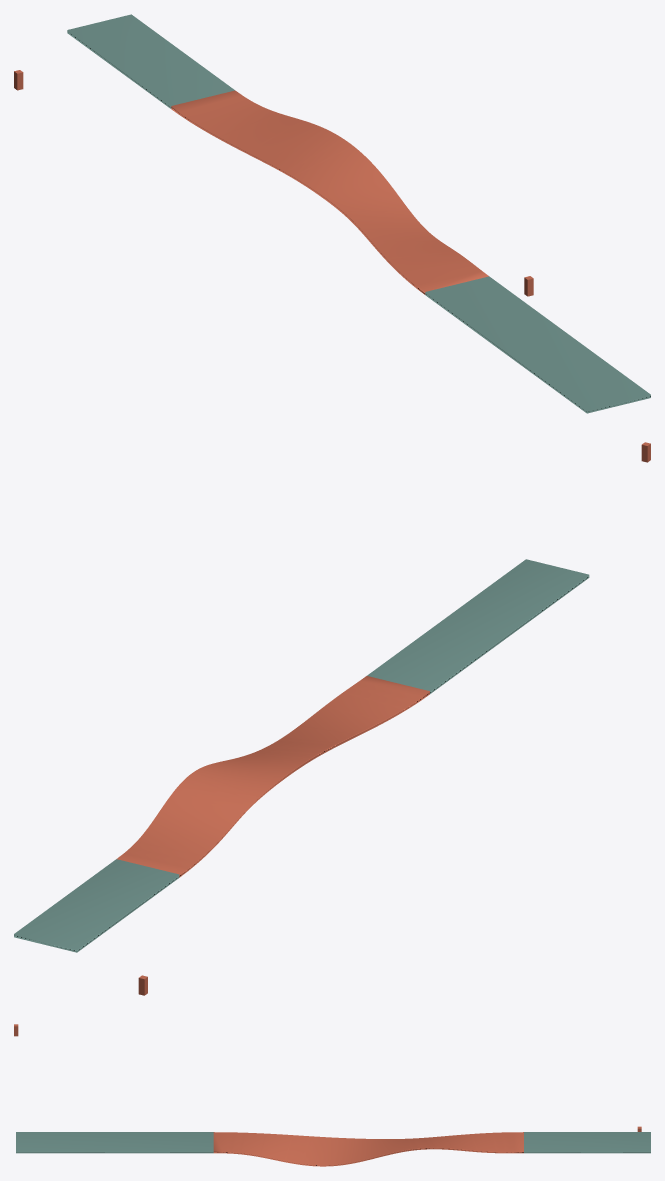
Rendered from ribbon-bridge-95603-cruise.glb.
3 renders of one model, top to bottom at view 1: azimuth 30°, elevation 25°; view 2: azimuth 150°, elevation 25°; view 3: azimuth 270°, elevation 25°, orthographic. The views are drawn at different scales.
Parts seen in each view (by area): view 1: study-deck-render, runout-deck-render, approach-deck-render; view 2: study-deck-render, runout-deck-render, approach-deck-render; view 3: study-deck-render, runout-deck-render, approach-deck-render.
Boxes of the visible parts, bbox=[...] form: study-deck-render: bbox=[171, 90, 488, 294]; runout-deck-render: bbox=[425, 276, 650, 413]; approach-deck-render: bbox=[67, 14, 234, 108]; study-deck-render: bbox=[117, 676, 429, 877]; runout-deck-render: bbox=[367, 559, 589, 693]; approach-deck-render: bbox=[14, 859, 179, 952]; study-deck-render: bbox=[213, 1132, 523, 1166]; runout-deck-render: bbox=[16, 1132, 213, 1153]; approach-deck-render: bbox=[524, 1132, 650, 1153].
Size of what is drawn, in the model's own units: 73.82 by 88 by 452.
